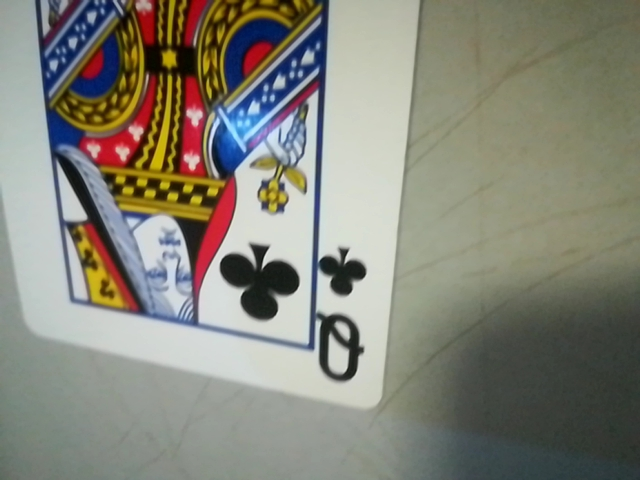mh q: (307, 240, 382, 397)
